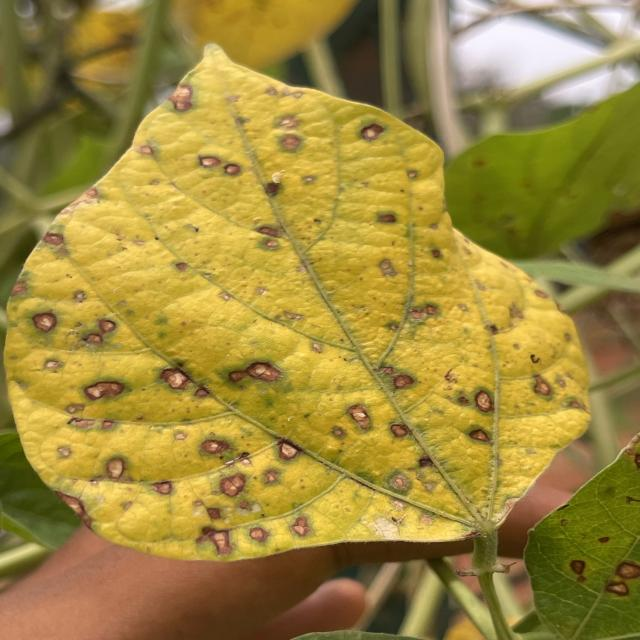Dolicos bean_cercospora leaf spot: (0, 38, 582, 550)
